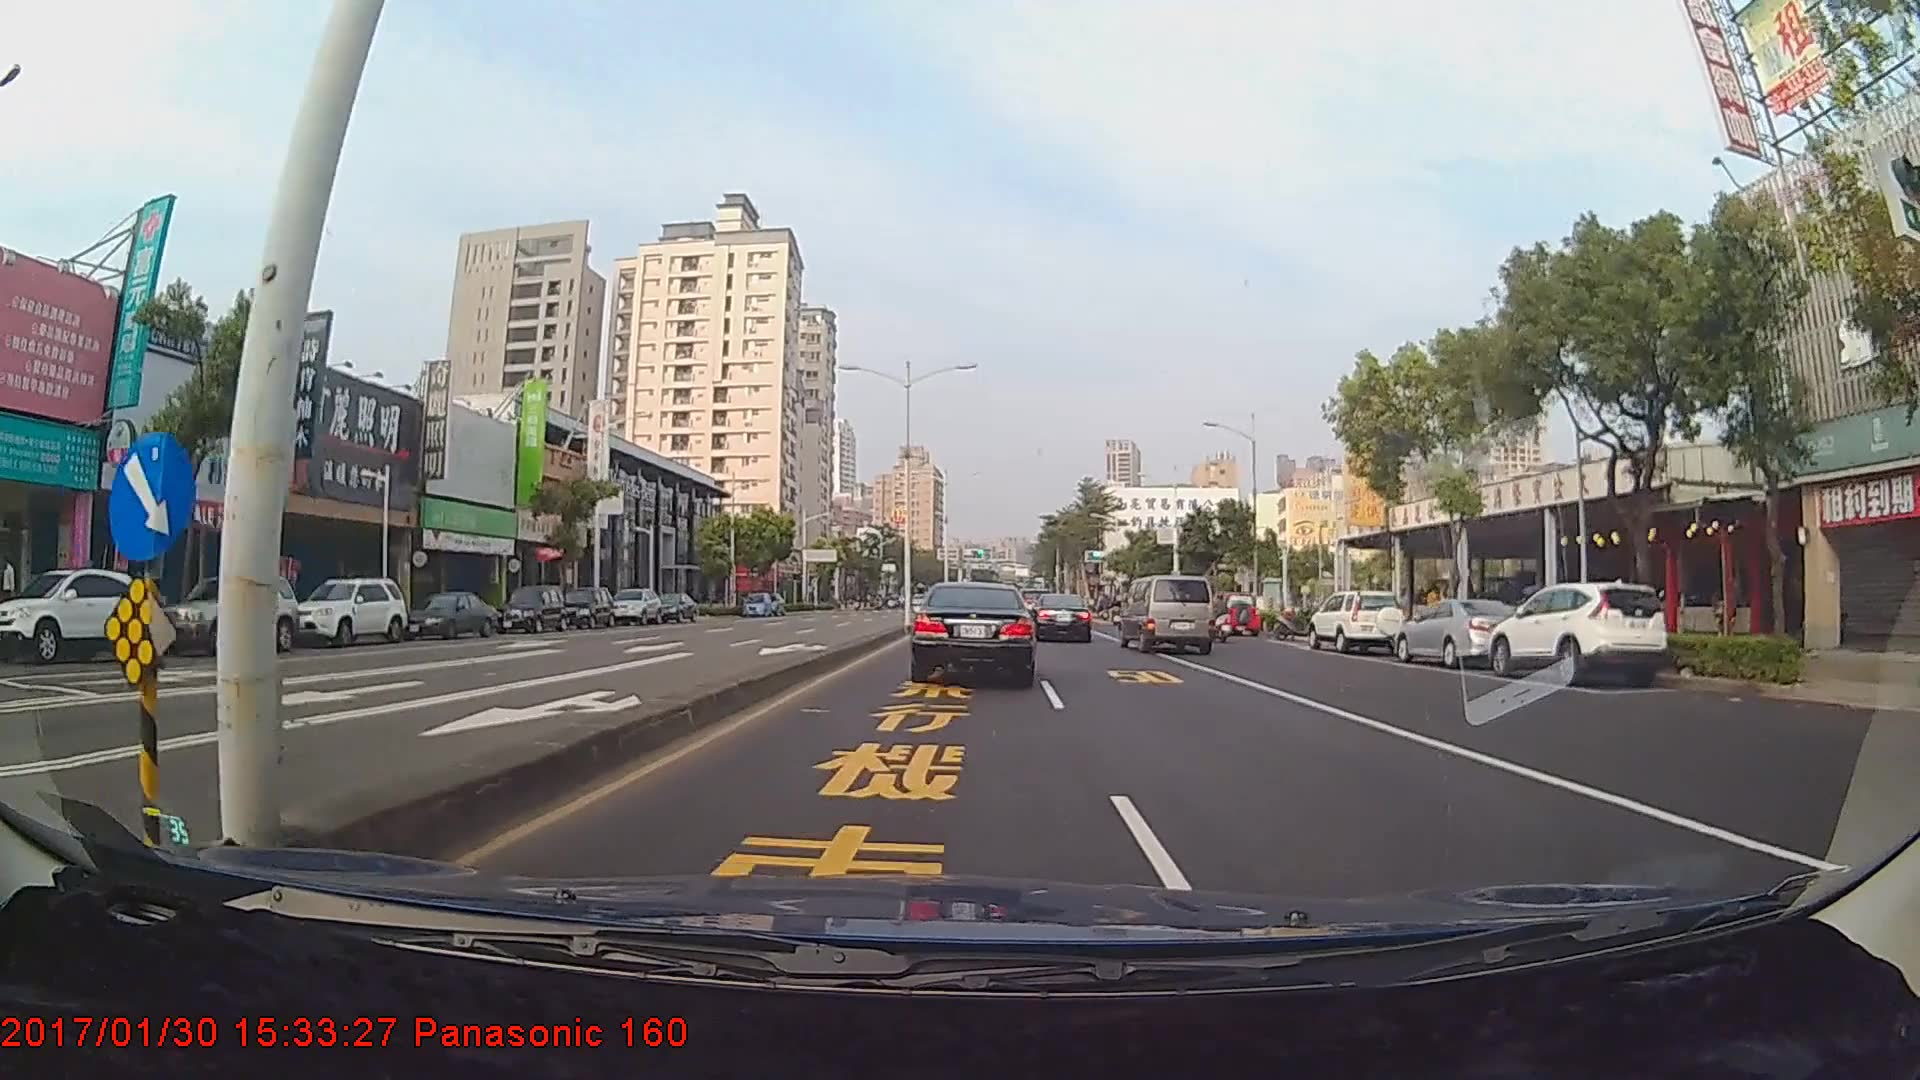pedestrian: (1, 555, 24, 631)
rider: (1211, 590, 1239, 642)
vehicle: (1487, 580, 1669, 686), (0, 569, 149, 662), (909, 580, 1037, 681), (151, 572, 298, 656), (291, 575, 406, 646), (1393, 599, 1508, 669), (1116, 575, 1214, 655), (1307, 590, 1405, 654), (401, 591, 498, 639), (496, 584, 568, 633), (1024, 593, 1092, 645), (557, 584, 613, 628), (610, 587, 664, 625), (648, 589, 696, 621), (740, 588, 771, 615)
